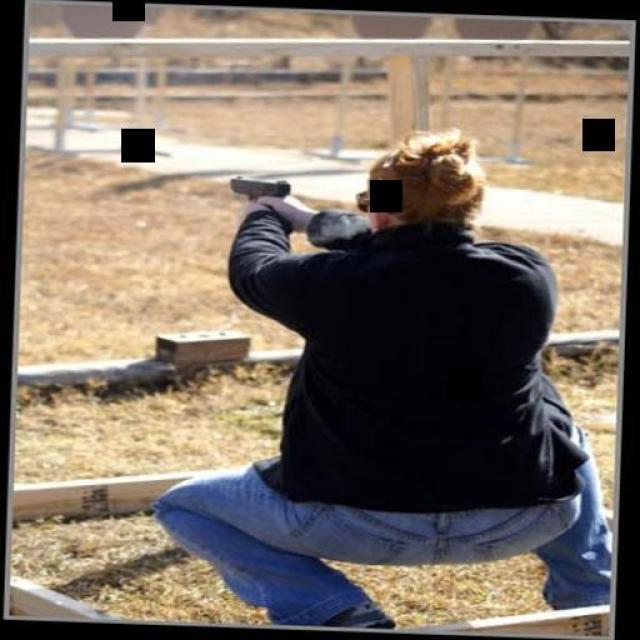gun: (222, 171, 298, 231)
